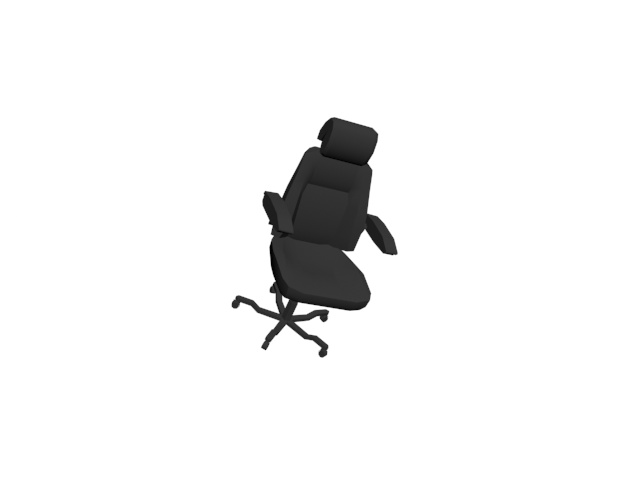desk_chair: (225, 113, 400, 360)
